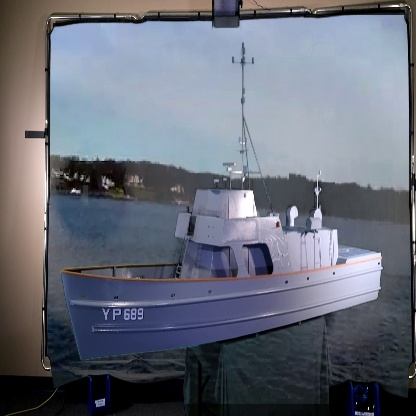YP689: (60, 41, 385, 365)
